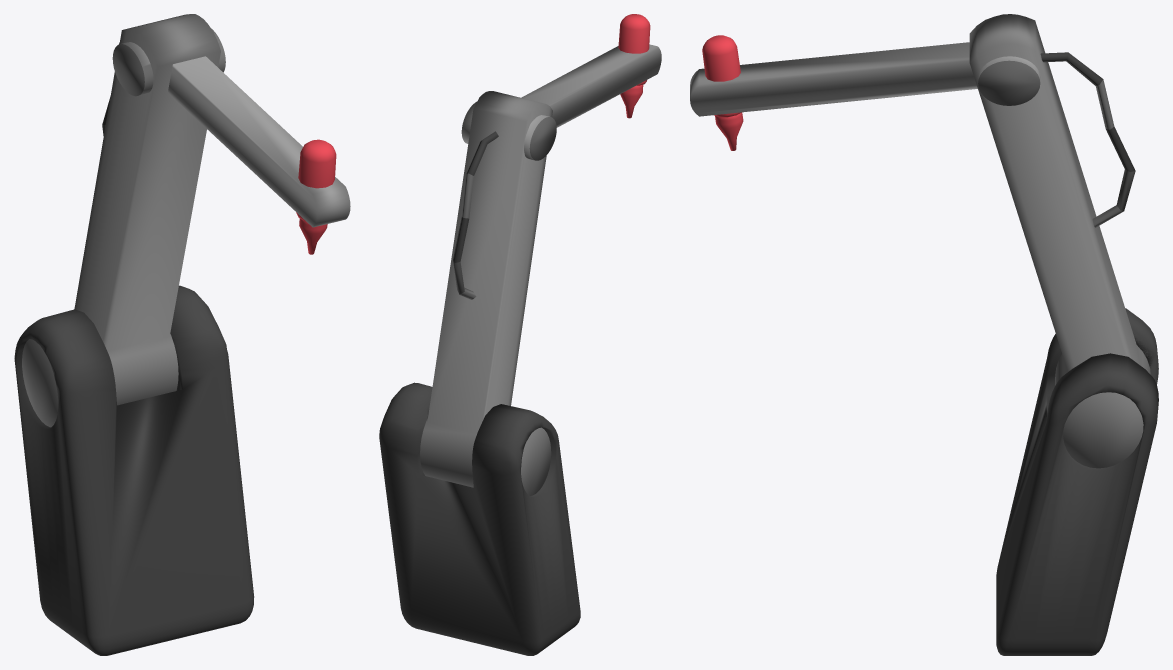
File: sos_makine.fbx
3 views of the same model, side by side, from view 1: azimuth 30°, elevation 25°; view 2: azimuth 150°, elevation 25°; view 3: azimuth 270°, elevation 25° (orthographic). The views are drawn at different scales.
Visible parts, largest first — view 1: Sos; view 2: Sos; view 3: Sos.
Part boxes in pixels (x1,y1,x2,y2): Sos: [14, 14, 350, 655]; Sos: [379, 14, 661, 655]; Sos: [690, 14, 1158, 655].
Bounding box in the file's own units: 140 × 493 × 353.
